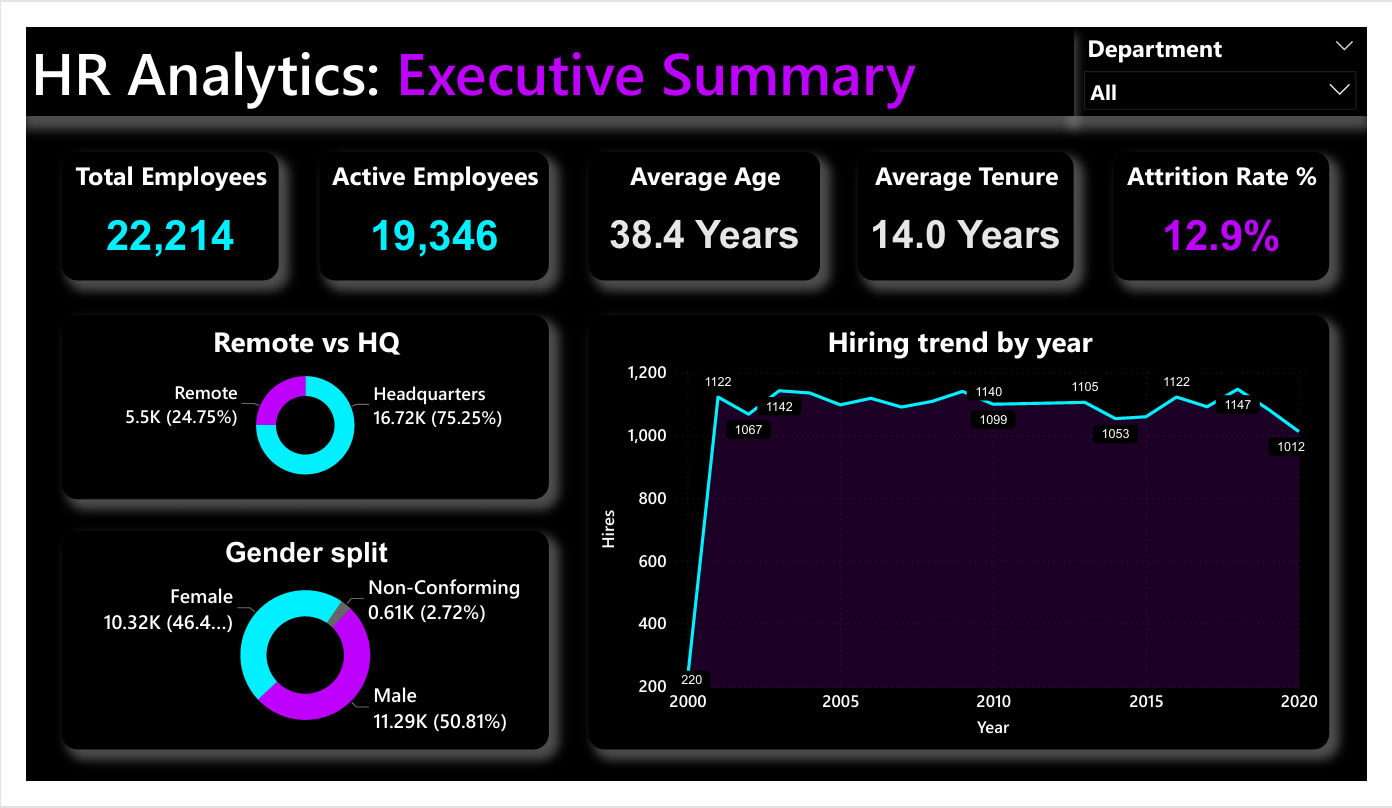

This screenshot's page, from the dashboard's own definition file:
{"tool":"powerbi","page":{"name":" Executive Overview","canvas":[1280,720],"ordinal":0},"visuals":[{"type":"card","title":"Active Employees","fields":{"Values":["CountNonNull(Cleaned Data.id)"]},"box":[279.8,118.7,219.6,123.6],"z":1000},{"type":"card","title":" Average Age","fields":{"Values":["Avg(Cleaned Data.Age)"]},"box":[536.8,118.7,221.2,123.6],"z":2000},{"type":"card","title":"Attrition Rate %","fields":{"Values":["Cleaned Data.Attrition Rate"]},"box":[1037.7,118.7,206.6,123.6],"z":3000},{"type":"donutChart","title":" Gender split","fields":{"Category":["Cleaned Data.gender"],"Y":["CountNonNull(Cleaned Data.id)"]},"box":[34.2,481.5,465.2,208.2],"z":4000},{"type":"donutChart","title":" Remote vs HQ","fields":{"Category":["Cleaned Data.location"],"Y":["CountNonNull(Cleaned Data.id)"]},"box":[34.2,274.9,465.2,175.7],"z":5000},{"type":"lineChart","title":"Hiring trend by year","fields":{"Y":["CountNonNull(Cleaned Data.id)"],"Category":["Cleaned Data.hire_date.Variation.Date Hierarchy.Year"]},"box":[536.8,274.9,707.5,414.8],"z":6000},{"type":"slicer","fields":{"Values":["Cleaned Data.department"]},"box":[1000.3,0,279.8,84.6],"z":7000},{"type":"textbox","box":[0,0,1000.3,84.6],"z":8000},{"type":"card","title":" Average Tenure","fields":{"Values":["Avg(Cleaned Data.tenure_years)"]},"box":[793.8,118.7,206.6,123.6],"z":9000},{"type":"card","title":"Total Employees","fields":{"Values":["CountNonNull(Cleaned Data.id)"]},"box":[34.2,118.7,206.6,123.6],"z":9001}]}

Visuals, with their boxes on the page's 1280x720 design canvas (x1, y1, x2, y2). These are canvas units, not pixel positions in the 1392x808 screenshot, which may show the page scaled, cropped or inside an application window:
"Active Employees" card: <bbox>280, 119, 499, 242</bbox>
" Average Age" card: <bbox>537, 119, 758, 242</bbox>
"Attrition Rate %" card: <bbox>1038, 119, 1244, 242</bbox>
" Gender split" donutChart: <bbox>34, 482, 499, 690</bbox>
" Remote vs HQ" donutChart: <bbox>34, 275, 499, 451</bbox>
"Hiring trend by year" lineChart: <bbox>537, 275, 1244, 690</bbox>
slicer - Cleaned Data.department: <bbox>1000, 0, 1280, 85</bbox>
textbox: <bbox>0, 0, 1000, 85</bbox>
" Average Tenure" card: <bbox>794, 119, 1000, 242</bbox>
"Total Employees" card: <bbox>34, 119, 241, 242</bbox>
